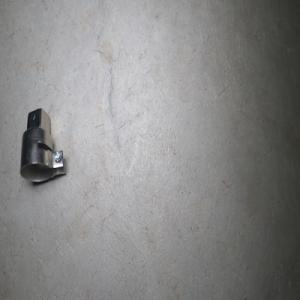MetalPart: (19, 107, 66, 183)
